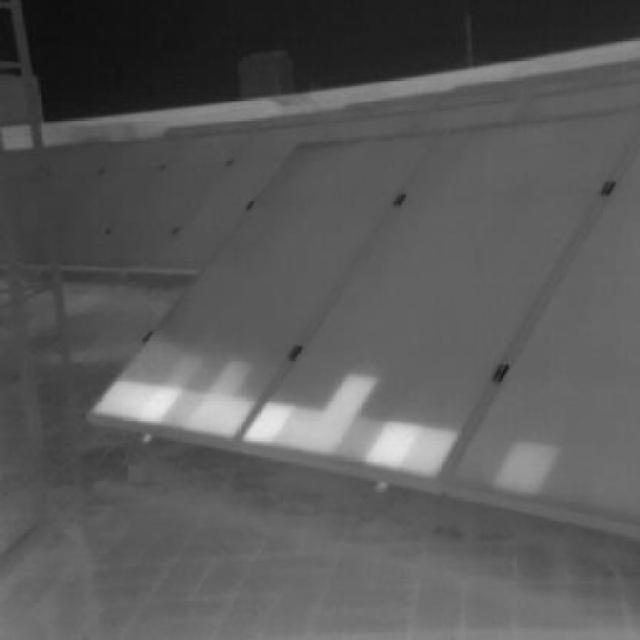hotspot: (500, 440, 555, 495), (373, 420, 422, 475), (99, 378, 147, 424), (245, 402, 297, 444), (326, 378, 379, 416), (220, 364, 248, 428), (143, 383, 180, 426)
